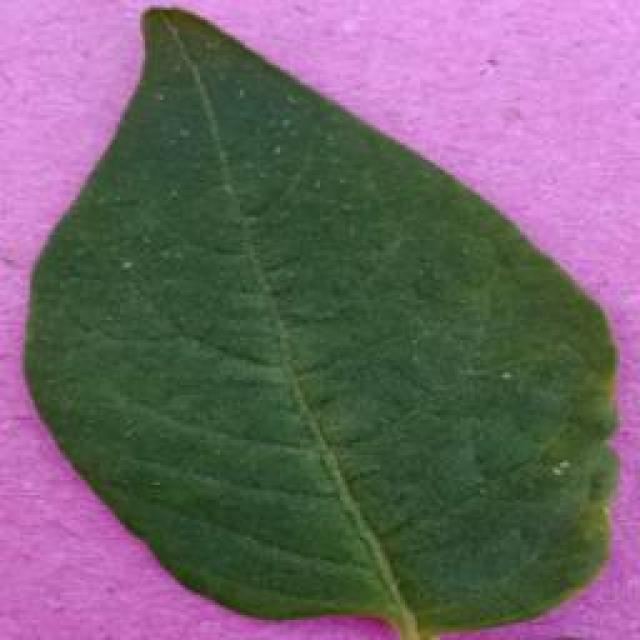Potato_Healthy: (24, 3, 611, 630)
